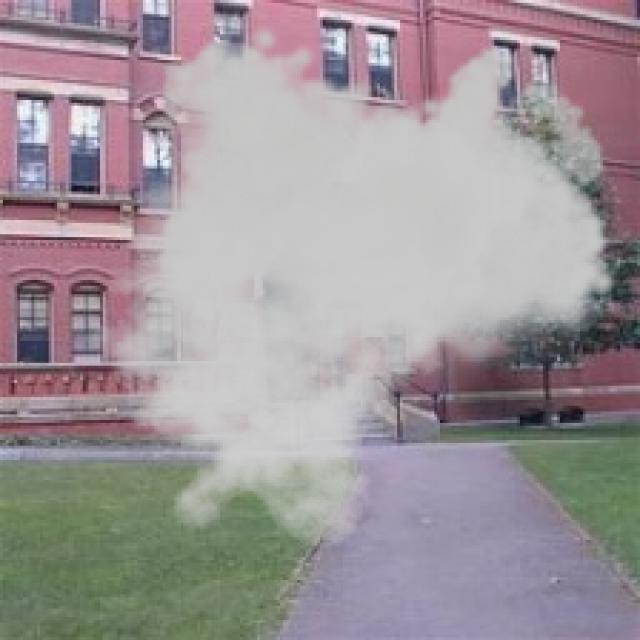smoke: (63, 23, 620, 548)
